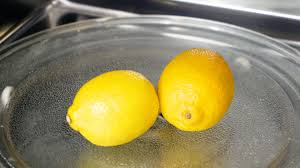Lemon: (59, 66, 167, 144), (154, 45, 234, 125)
